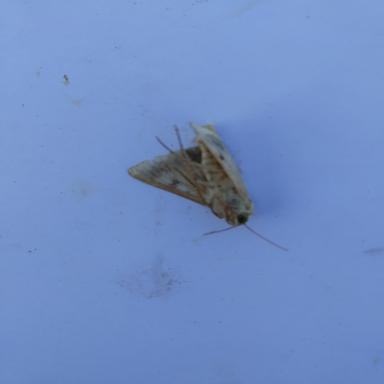abw: (124, 115, 292, 255)
